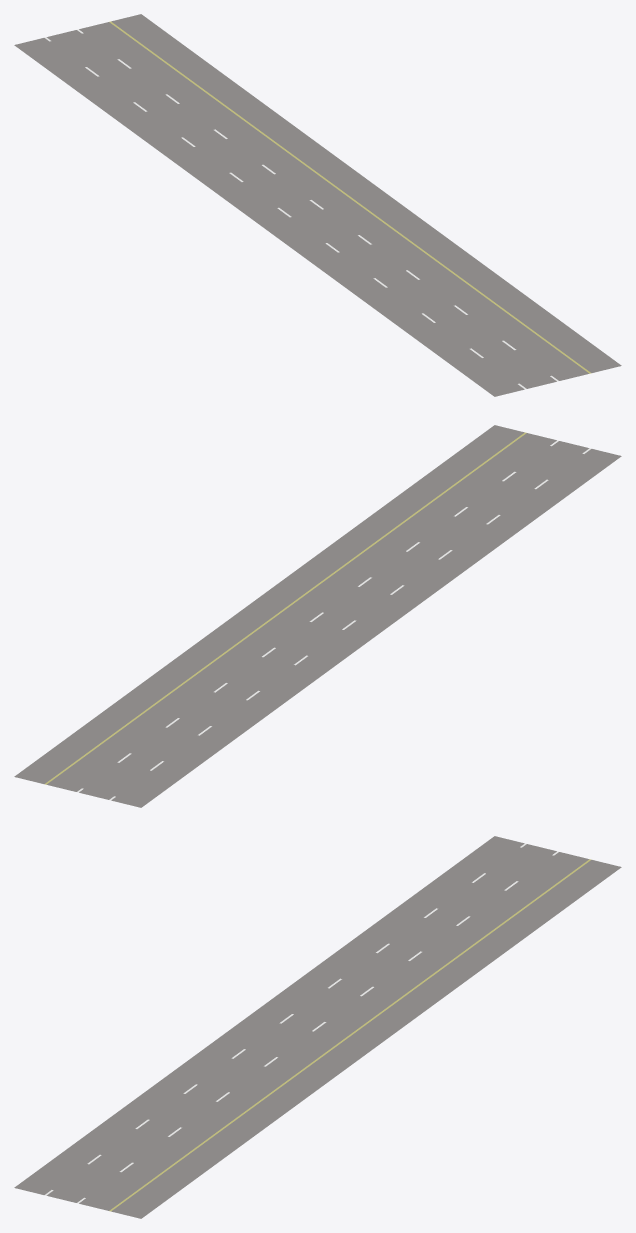
Rendered from Road.glb.
3 views of the same model, one above another, from view 1: azimuth 30°, elevation 25°; view 2: azimuth 150°, elevation 25°; view 3: azimuth 330°, elevation 25° (orthographic).
Parts seen in each view (by area): view 1: road; view 2: road; view 3: road.
Boxes of the visible parts, <box> form: road: <box>14,14,621,396</box>; road: <box>14,425,621,807</box>; road: <box>14,836,621,1218</box>.
Size of the model in its own units: 15.29 by 0 by 100.
